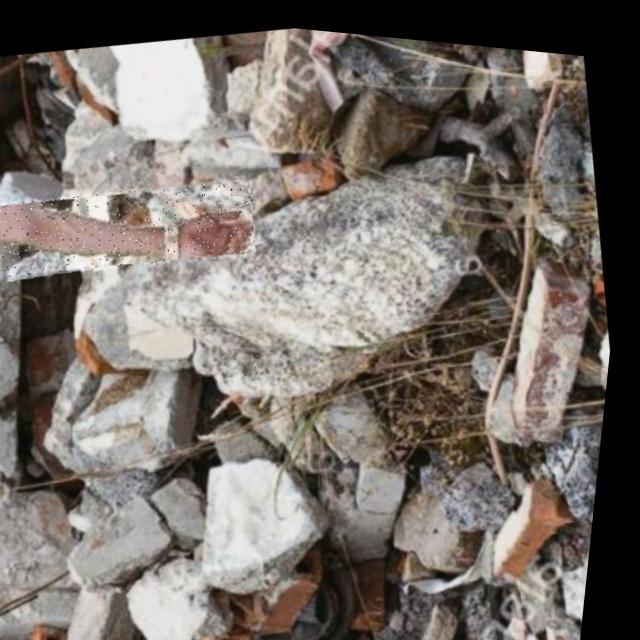Person in Rubble: (0, 152, 268, 300)
